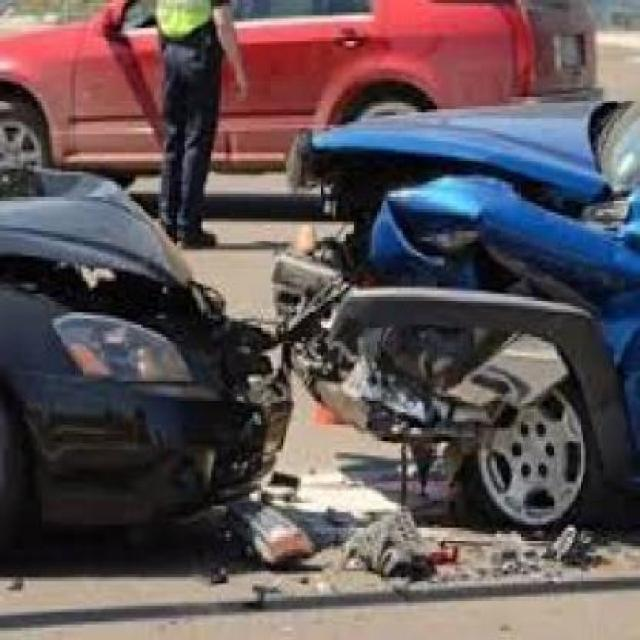accident: (0, 109, 640, 553)
